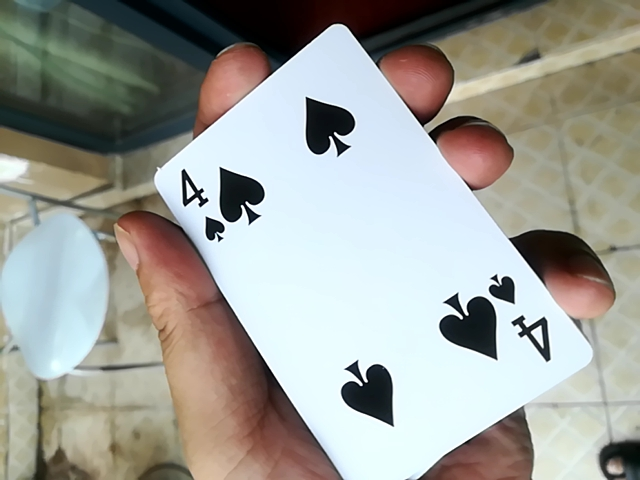ht 4: (142, 22, 581, 478)
